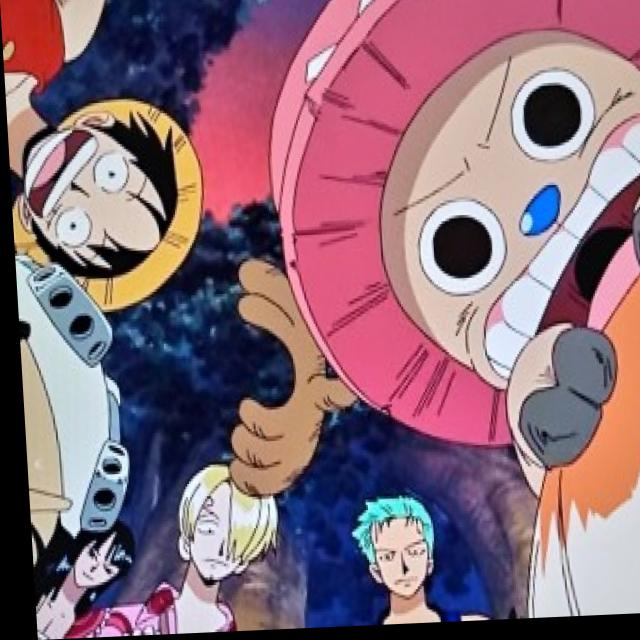Chyopa: (263, 0, 640, 441)
Luffy: (4, 69, 212, 321)
NicoRobin: (52, 502, 140, 597)
Sangdi: (153, 460, 281, 593)
Zoro: (335, 477, 439, 609)
